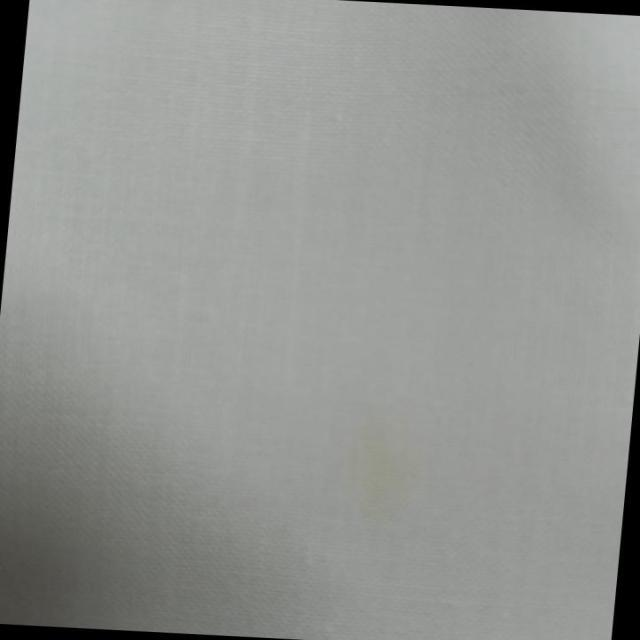stain: (338, 412, 434, 524)
